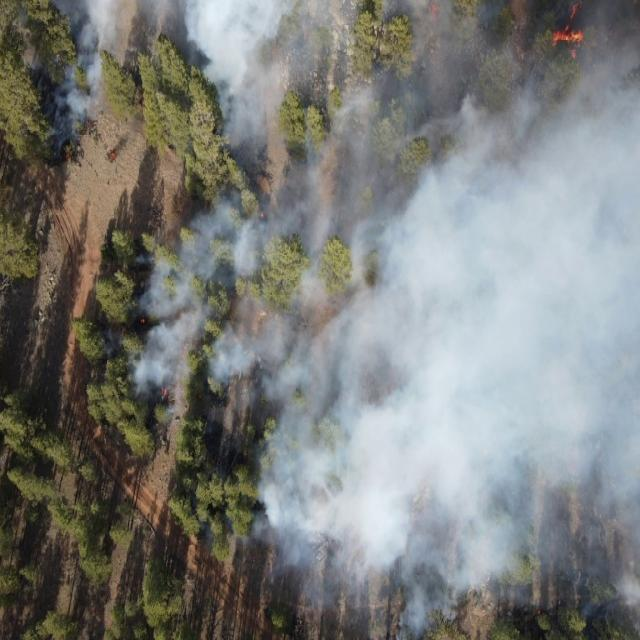fire: (550, 0, 589, 58), (61, 144, 72, 165), (158, 381, 169, 401), (425, 2, 438, 18), (109, 149, 118, 166), (258, 206, 270, 215), (142, 315, 148, 321)
smoke: (180, 4, 640, 640), (20, 0, 119, 139), (125, 236, 181, 429)
